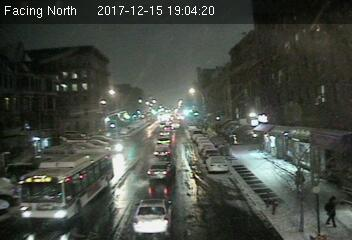bus: (16, 150, 113, 218)
car: (129, 199, 176, 233), (145, 161, 175, 179), (206, 157, 229, 171), (153, 146, 171, 157)
pedestrian: (324, 193, 338, 228)
